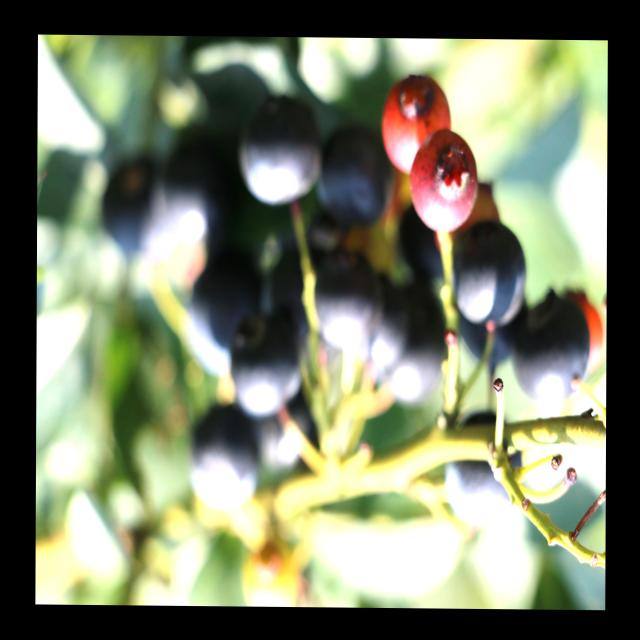blueberry: (235, 93, 318, 209), (443, 412, 528, 525), (511, 292, 591, 409), (159, 130, 241, 244), (224, 318, 309, 427), (448, 218, 530, 330), (314, 123, 391, 241), (183, 254, 255, 377), (184, 398, 258, 514), (378, 291, 448, 409), (101, 156, 173, 269), (308, 255, 381, 358), (351, 282, 409, 376)
blueberry-halfripe: (408, 130, 480, 235), (384, 80, 453, 174)
